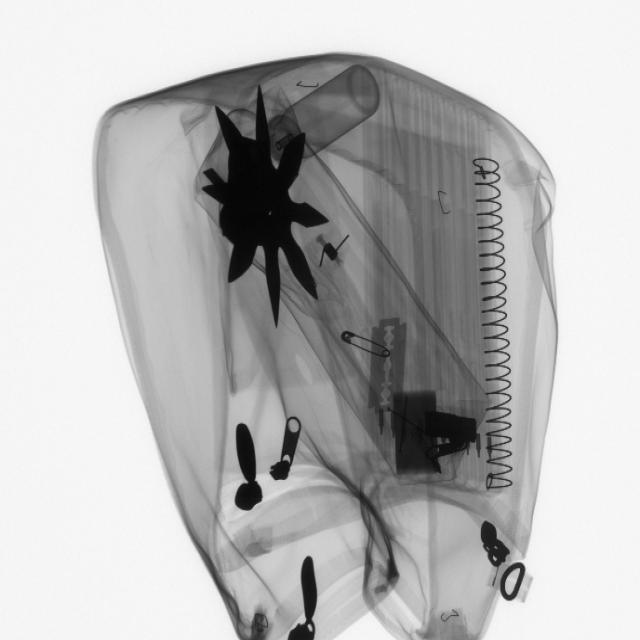BLADE: (365, 308, 418, 427)
SHURIKEN: (202, 86, 324, 330)
